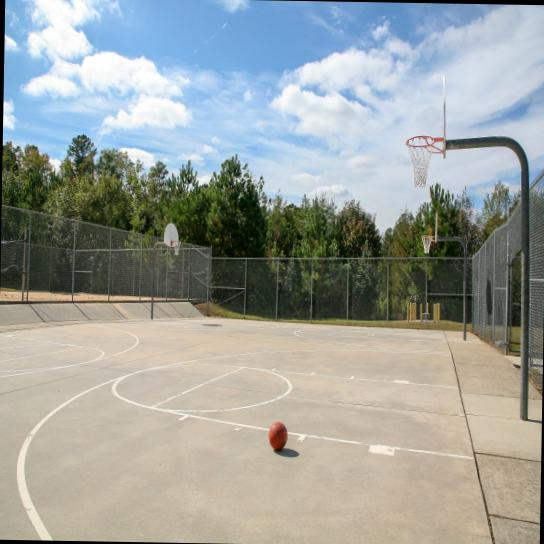basketball-hoop: (405, 133, 436, 190), (421, 233, 432, 254), (172, 238, 182, 256)
